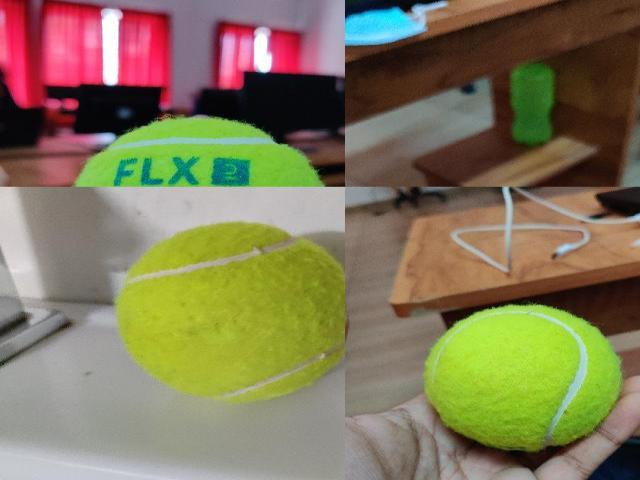tennis-ball: (119, 219, 344, 405), (424, 304, 622, 450), (74, 118, 330, 186)
